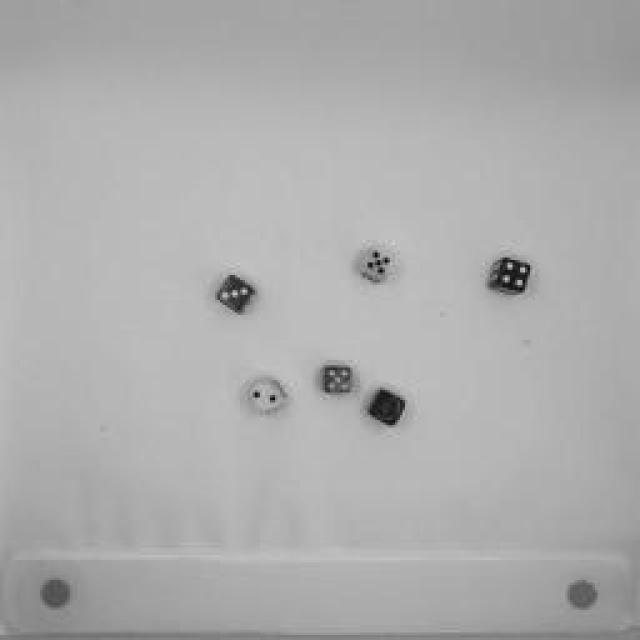dice_1: (362, 388, 418, 432)
dice_2: (240, 370, 295, 425)
dice_3: (212, 268, 268, 318)
dice_4: (478, 255, 538, 300)
dice_5: (352, 242, 402, 288), (319, 362, 356, 398)
